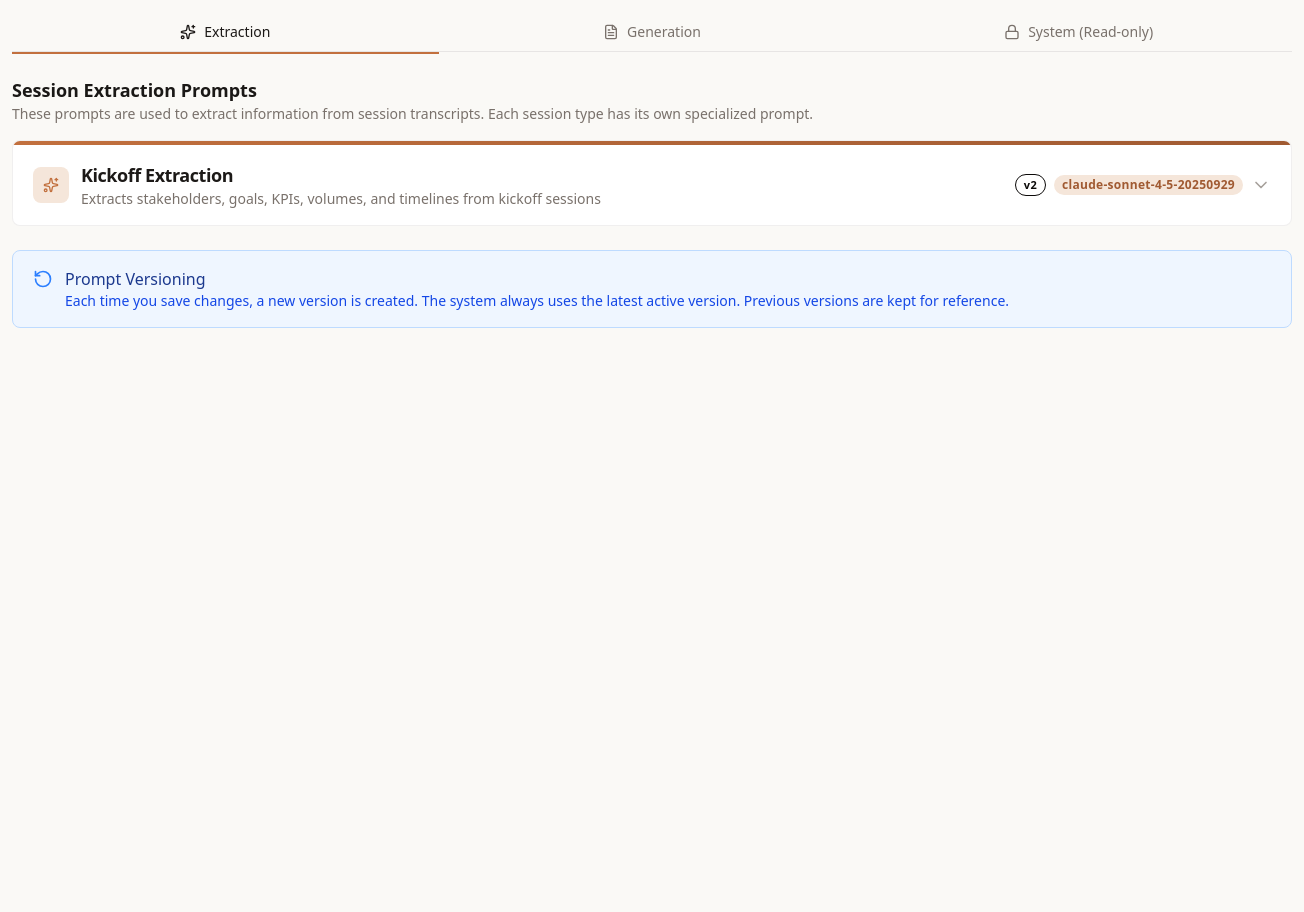
Test: PromptManager › shows error message when save fails
Click the heading "Kickoff Extraction": (157,175) x1=81 y1=163 x2=233 y2=187
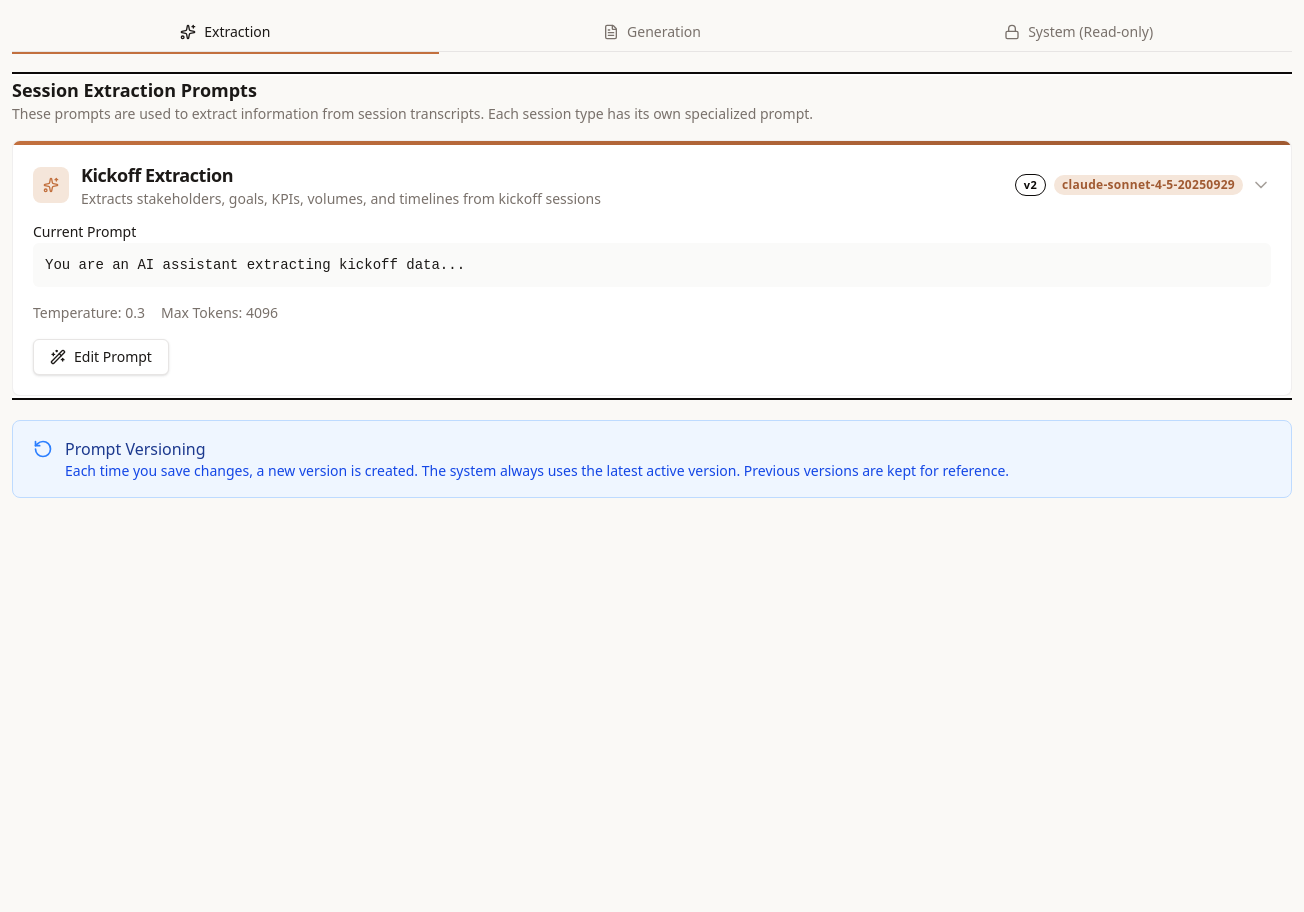
Expected: the button "Edit Prompt" is shown
Click the button "Edit Prompt": (101,357) x1=33 y1=339 x2=169 y2=375
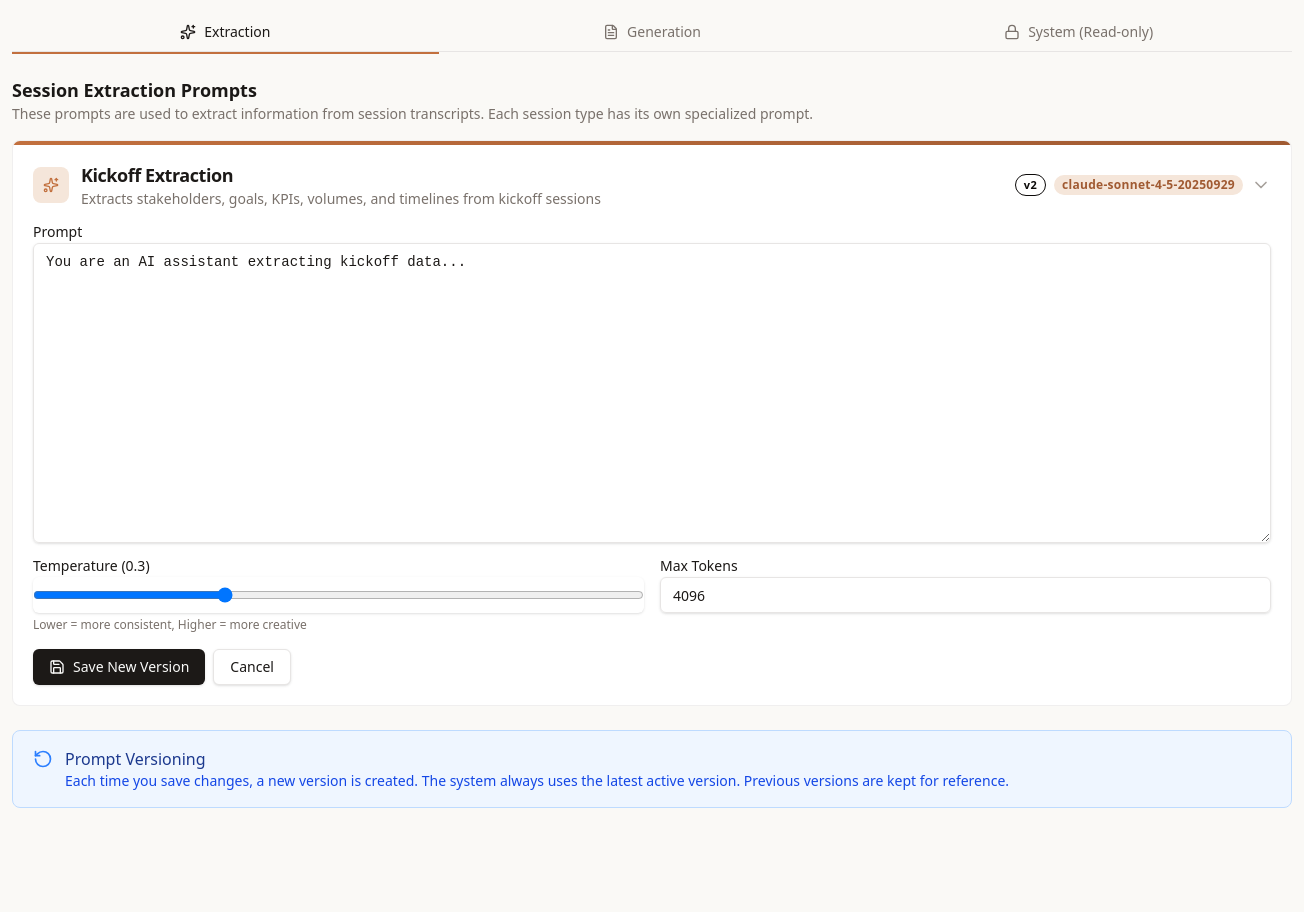
Expected: the button "Save New Version" is shown
Click the button "Save New Version": (119,667) x1=33 y1=649 x2=205 y2=685
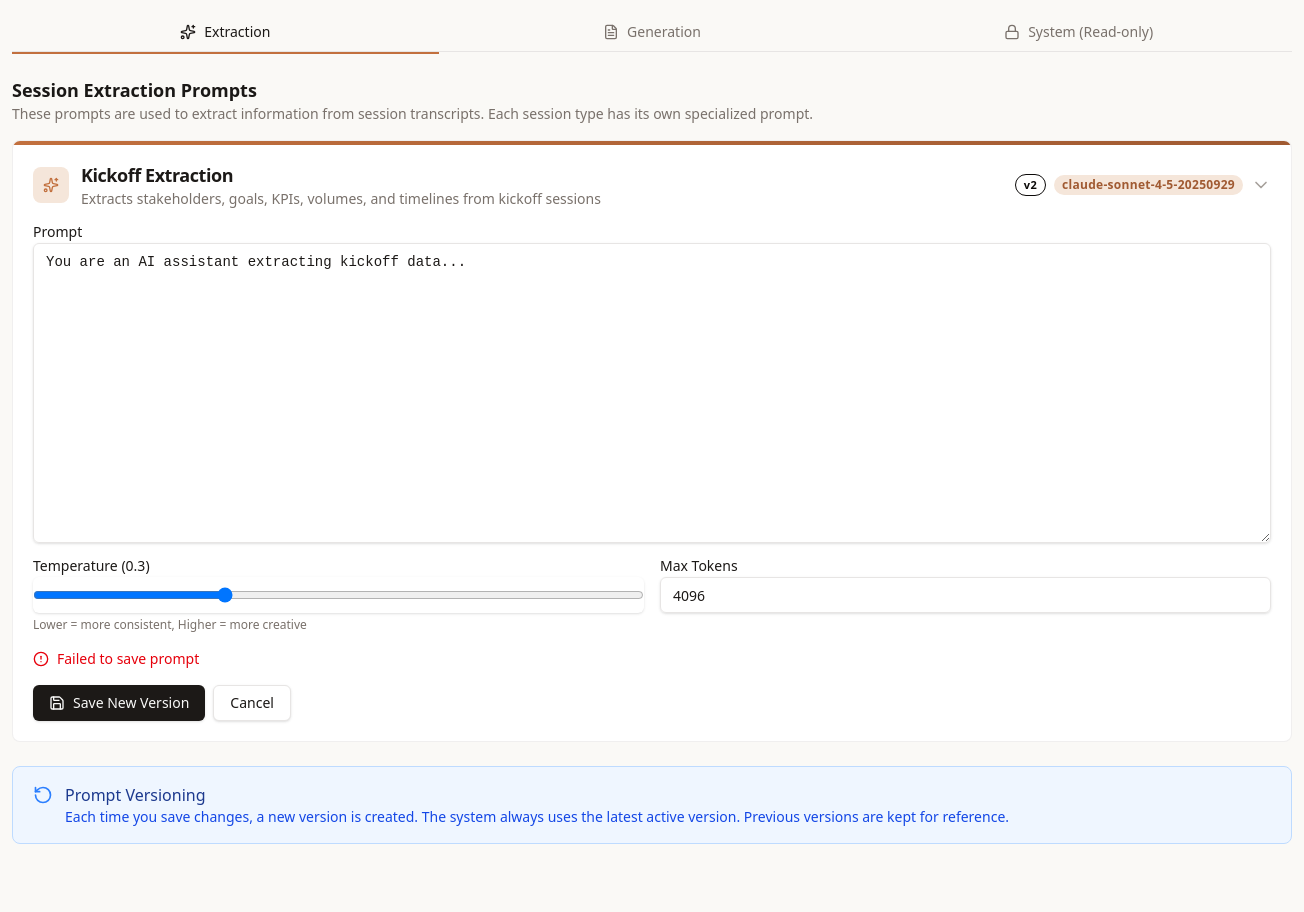
Expected: the text "Failed to save prompt" is shown, x1=33 y1=649 x2=199 y2=668
